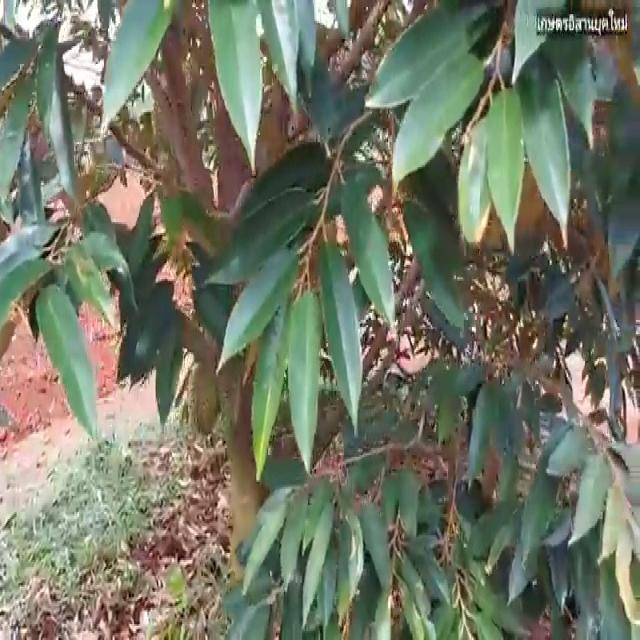durian: (184, 350, 225, 439)
